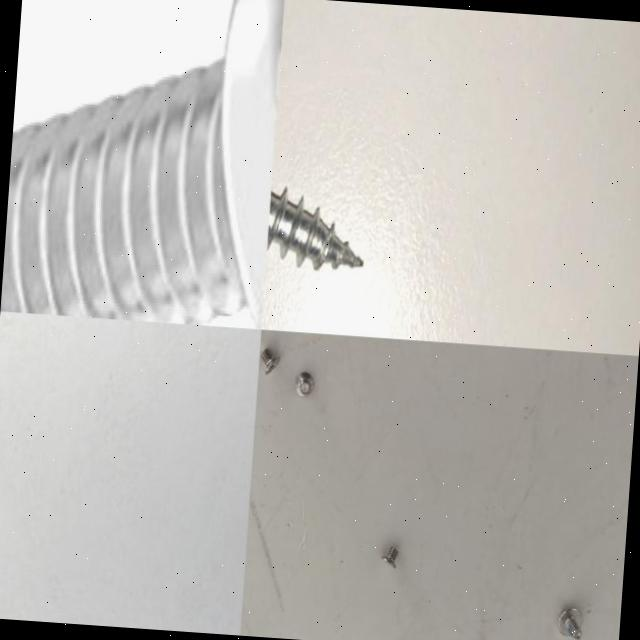Screw: (0, 0, 284, 329), (267, 189, 362, 270), (555, 601, 586, 640), (258, 346, 282, 376), (294, 370, 316, 399), (378, 543, 401, 570)
